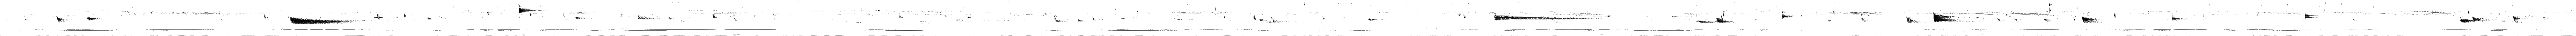meteor: (1493, 13, 1569, 21), (289, 16, 352, 25), (1934, 11, 1958, 23), (519, 5, 539, 13), (2081, 16, 2103, 23), (2459, 18, 2482, 23), (1906, 16, 1919, 25), (637, 15, 655, 20), (1715, 18, 1733, 23), (2172, 15, 2185, 21), (1782, 13, 1794, 20), (2303, 13, 2318, 18), (56, 16, 66, 23), (2512, 16, 2522, 23), (1695, 20, 1713, 23), (711, 13, 718, 18), (87, 16, 95, 20)
